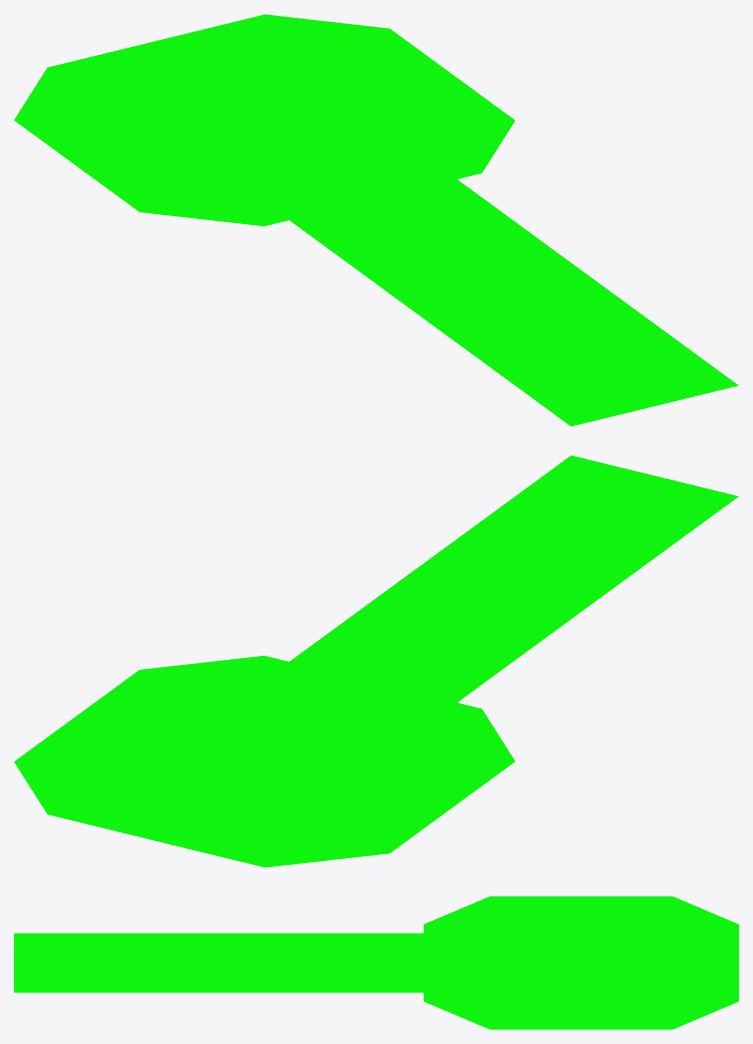
The model's file is s02a_sa1-floor.glb.
3 renders of one model, top to bottom at view 1: azimuth 30°, elevation 25°; view 2: azimuth 150°, elevation 25°; view 3: azimuth 270°, elevation 25°, orthographic. The views are drawn at different scales.
Parts seen in each view (by area): view 1: collision_floor-colonly; view 2: collision_floor-colonly; view 3: collision_floor-colonly.
Boxes of the visible parts, x1,y1,x2,y2 form: collision_floor-colonly: [14, 14, 738, 426]; collision_floor-colonly: [14, 455, 738, 867]; collision_floor-colonly: [14, 896, 738, 1029].
Bounding box in the file's own units: 13.44 × 0 × 30.89.
